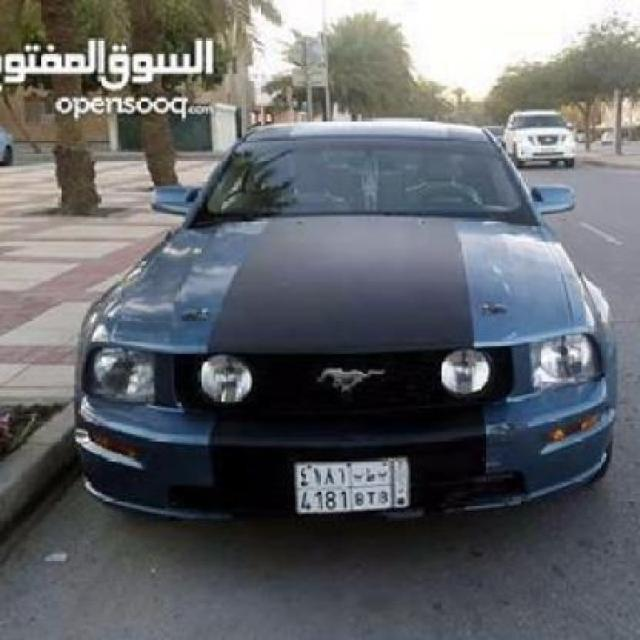license_plate: (292, 456, 412, 518)
